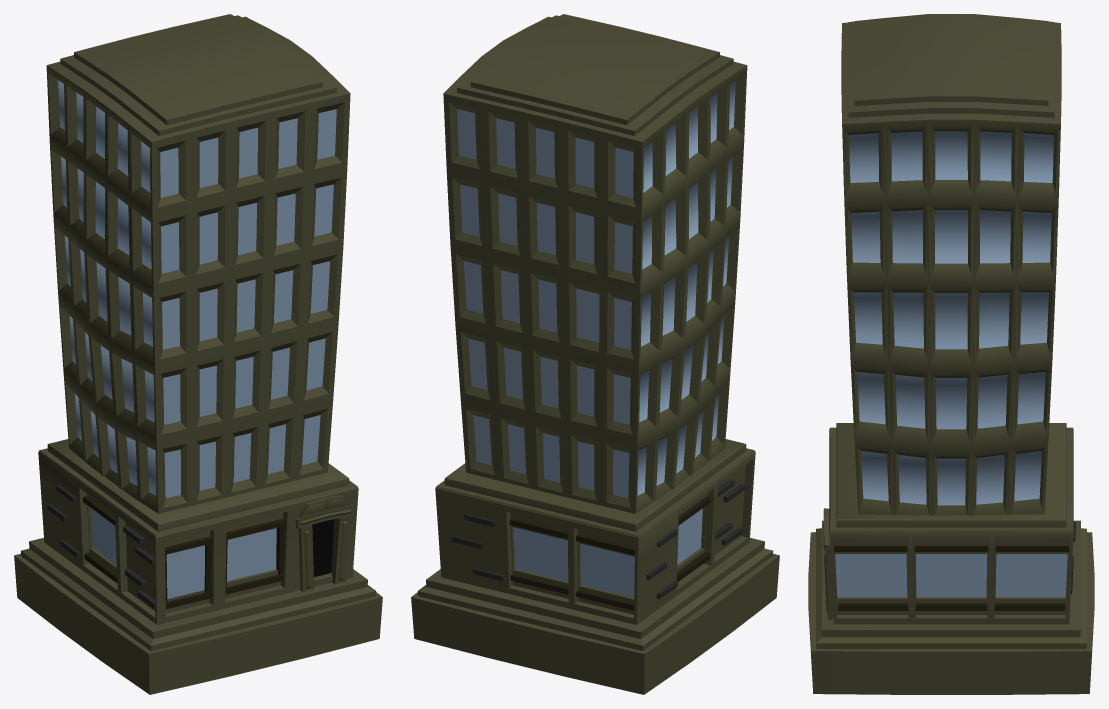
File: Basic Building #1.FBX
The picture shows the model from 3 angles, left to right: view 1: azimuth 30°, elevation 25°; view 2: azimuth 150°, elevation 25°; view 3: azimuth 270°, elevation 25°; orthographic projection. The views are drawn at different scales.
Parts seen in each view (by area): view 1: Basic Building 1; view 2: Basic Building 1; view 3: Basic Building 1.
Part boxes in pixels (left/top/right/bottom): Basic Building 1: left=14, top=14, right=382, bottom=694; Basic Building 1: left=411, top=14, right=779, bottom=694; Basic Building 1: left=808, top=14, right=1094, bottom=694.
Bounding box in the file's own units: 16.65 × 37.46 × 16.65.
